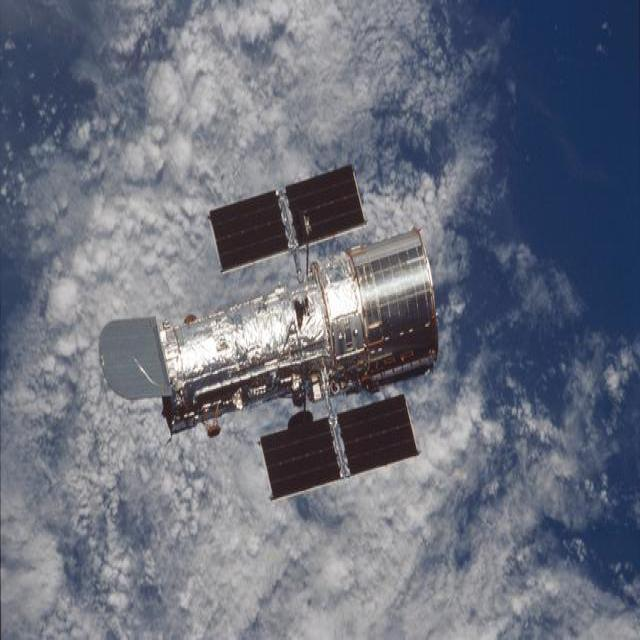medium_debris: (100, 165, 438, 497)
